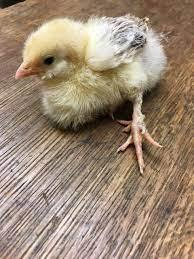AbNormal: (17, 12, 170, 168)
